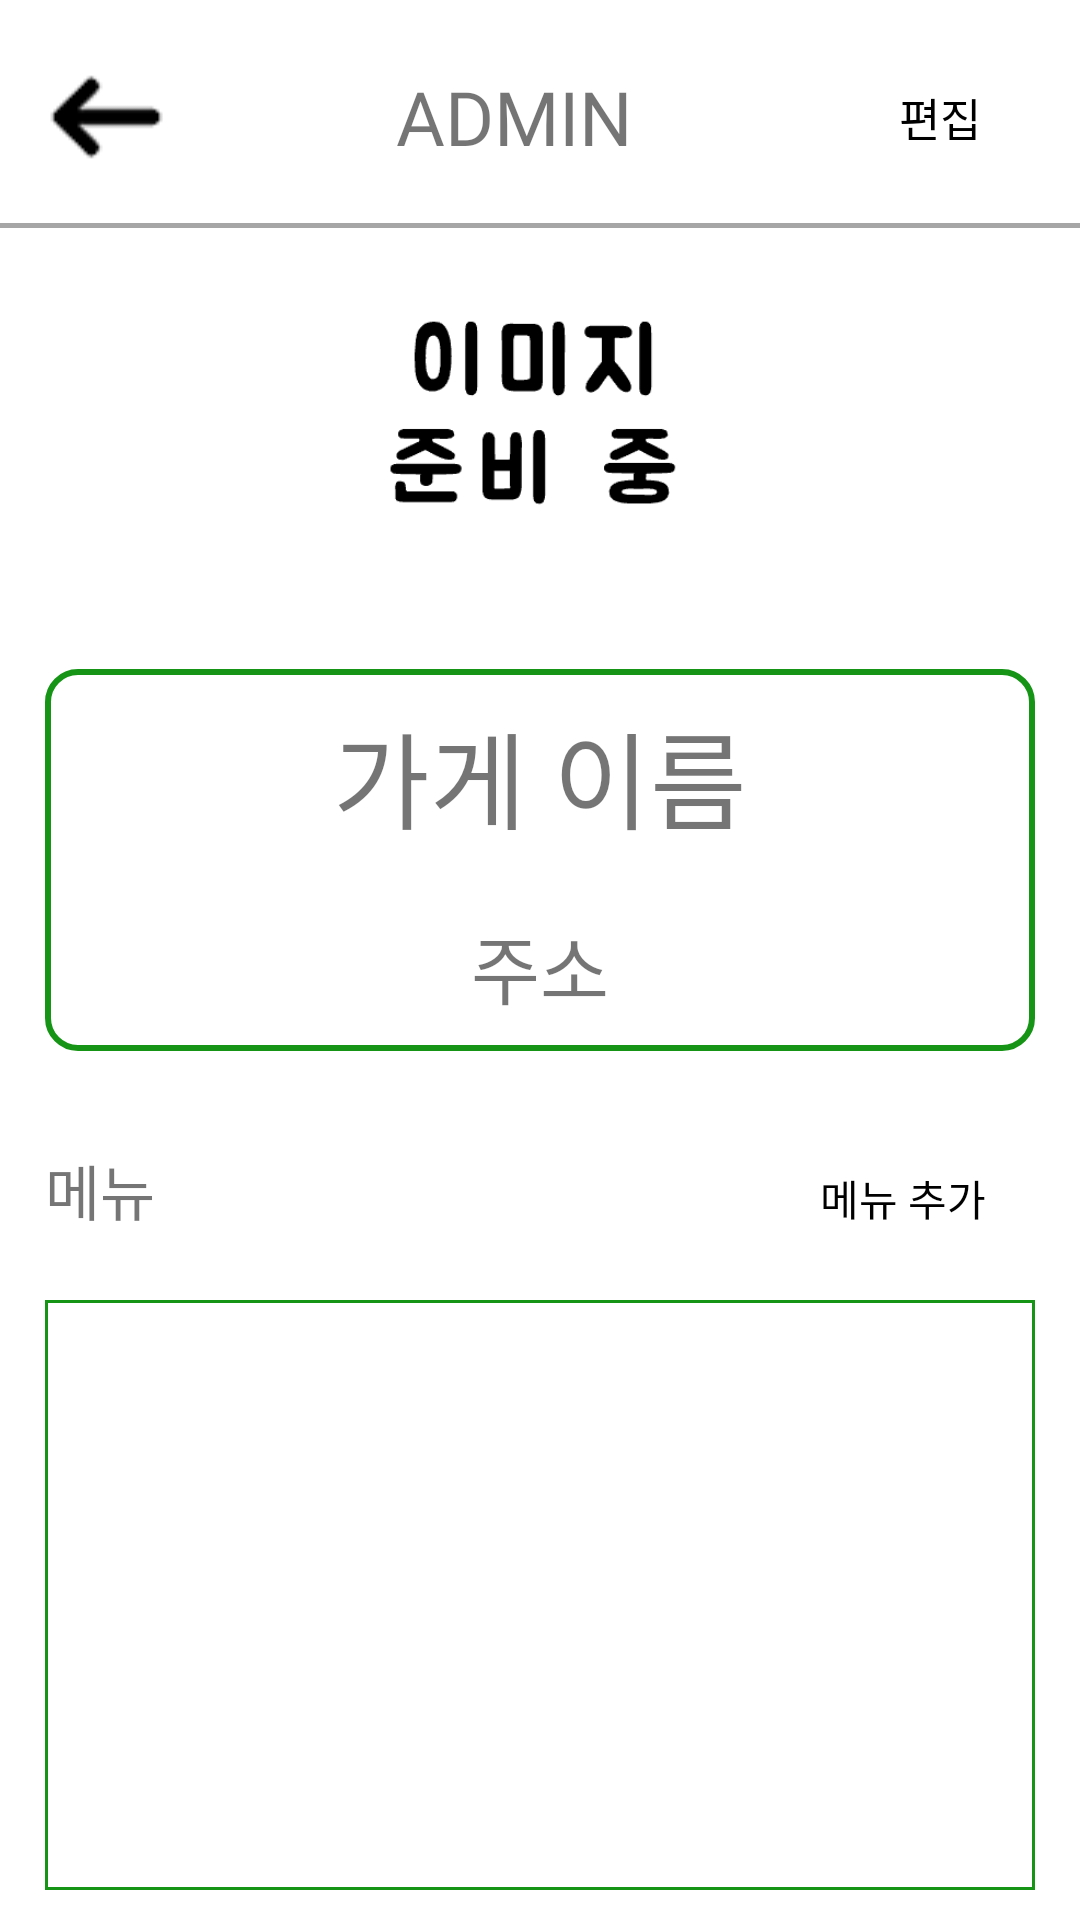

Icons on this 1080px×1920px Android screen, each with its box as (x1, y1, x2, y2):
back: (51, 76, 162, 158)
